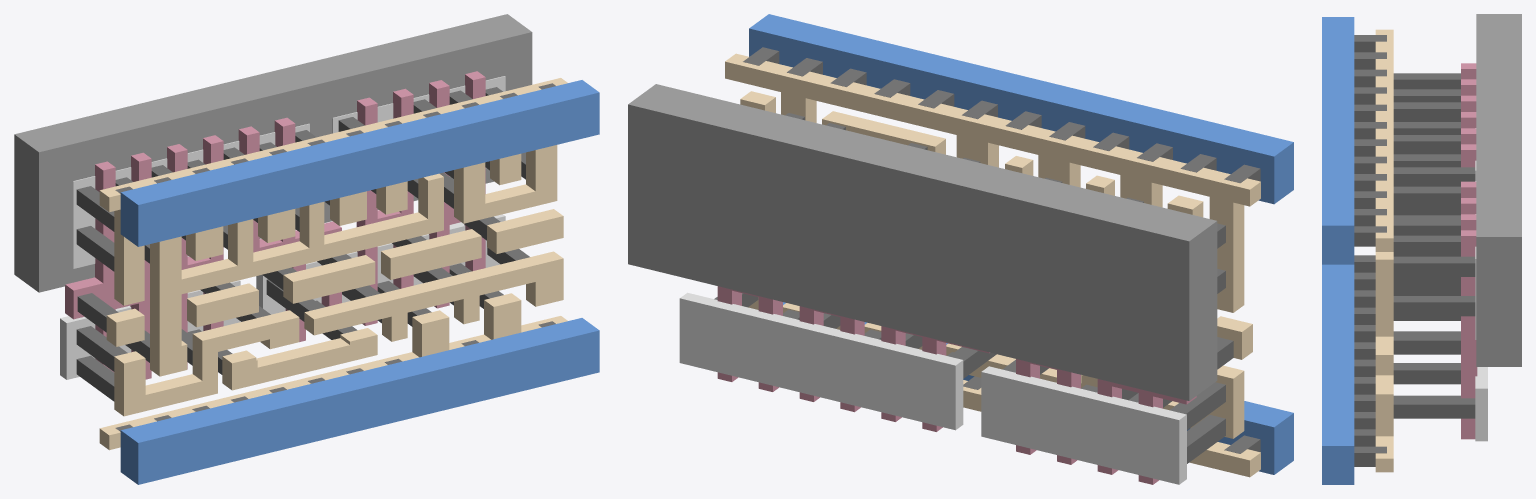
File: sky130_fd_sc_hd__o2111ai_2.gds.gltf
The picture shows the model from 3 angles, left to right: view 1: azimuth 30°, elevation 25°; view 2: azimuth 150°, elevation 25°; view 3: azimuth 270°, elevation 25°; orthographic projection. The views are drawn at different scales.
Visible parts, largest first — view 1: sky130_fd_sc_hd__o2111ai_2_li1, sky130_fd_sc_hd__o2111ai_2_met1, sky130_fd_sc_hd__o2111ai_2_nwell, sky130_fd_sc_hd__o2111ai_2_licon, sky130_fd_sc_hd__o2111ai_2_poly, sky130_fd_sc_hd__o2111ai_2_diff, sky130_fd_sc_hd__o2111ai_2_mcon; view 2: sky130_fd_sc_hd__o2111ai_2_nwell, sky130_fd_sc_hd__o2111ai_2_diff, sky130_fd_sc_hd__o2111ai_2_li1, sky130_fd_sc_hd__o2111ai_2_met1, sky130_fd_sc_hd__o2111ai_2_mcon, sky130_fd_sc_hd__o2111ai_2_licon, sky130_fd_sc_hd__o2111ai_2_poly; view 3: sky130_fd_sc_hd__o2111ai_2_licon, sky130_fd_sc_hd__o2111ai_2_nwell, sky130_fd_sc_hd__o2111ai_2_met1, sky130_fd_sc_hd__o2111ai_2_mcon, sky130_fd_sc_hd__o2111ai_2_li1, sky130_fd_sc_hd__o2111ai_2_poly, sky130_fd_sc_hd__o2111ai_2_diff.
Boxes of the visible parts, x1,y1,x2,y2 form: sky130_fd_sc_hd__o2111ai_2_li1: (99,78,567,450); sky130_fd_sc_hd__o2111ai_2_met1: (120,80,599,484); sky130_fd_sc_hd__o2111ai_2_nwell: (14,14,532,292); sky130_fd_sc_hd__o2111ai_2_licon: (76,87,529,401); sky130_fd_sc_hd__o2111ai_2_poly: (65,71,485,379); sky130_fd_sc_hd__o2111ai_2_diff: (60,76,505,379); sky130_fd_sc_hd__o2111ai_2_mcon: (115,83,555,431); sky130_fd_sc_hd__o2111ai_2_nwell: (628,84,1217,400); sky130_fd_sc_hd__o2111ai_2_diff: (679,292,1186,484); sky130_fd_sc_hd__o2111ai_2_li1: (725,53,1260,477); sky130_fd_sc_hd__o2111ai_2_met1: (749,14,1293,474); sky130_fd_sc_hd__o2111ai_2_mcon: (743,47,1260,453); sky130_fd_sc_hd__o2111ai_2_licon: (714,113,1233,463); sky130_fd_sc_hd__o2111ai_2_poly: (717,286,1196,484); sky130_fd_sc_hd__o2111ai_2_licon: (1393,73,1475,418); sky130_fd_sc_hd__o2111ai_2_nwell: (1476,14,1521,366); sky130_fd_sc_hd__o2111ai_2_met1: (1322,17,1354,484); sky130_fd_sc_hd__o2111ai_2_mcon: (1354,35,1386,466); sky130_fd_sc_hd__o2111ai_2_li1: (1375,29,1393,472); sky130_fd_sc_hd__o2111ai_2_poly: (1461,63,1477,439); sky130_fd_sc_hd__o2111ai_2_diff: (1475,128,1487,441).
Bounding box in the file's own units: 5.9 × 3.2 × 2.24.
